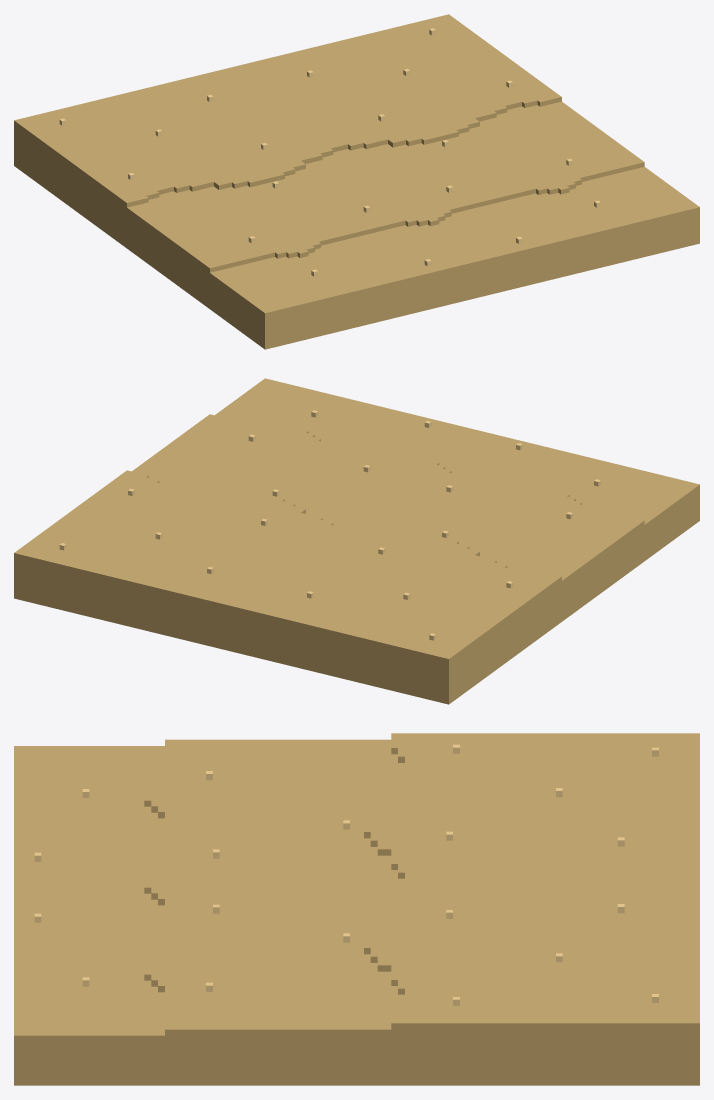
The model's file is Background_C_L_floor_02.FBX.
3 renders of one model, top to bottom at view 1: azimuth 30°, elevation 25°; view 2: azimuth 150°, elevation 25°; view 3: azimuth 270°, elevation 25°, orthographic. The views are drawn at different scales.
Parts seen in each view (by area): view 1: Background_C-26; view 2: Background_C-26; view 3: Background_C-26.
Boxes of the visible parts, x1,y1,x2,y2 form: Background_C-26: (14, 14, 699, 349); Background_C-26: (14, 378, 699, 704); Background_C-26: (14, 733, 699, 1085).
Bounding box in the file's own units: 10 × 1.1 × 10.
1 material, 1 textured.
